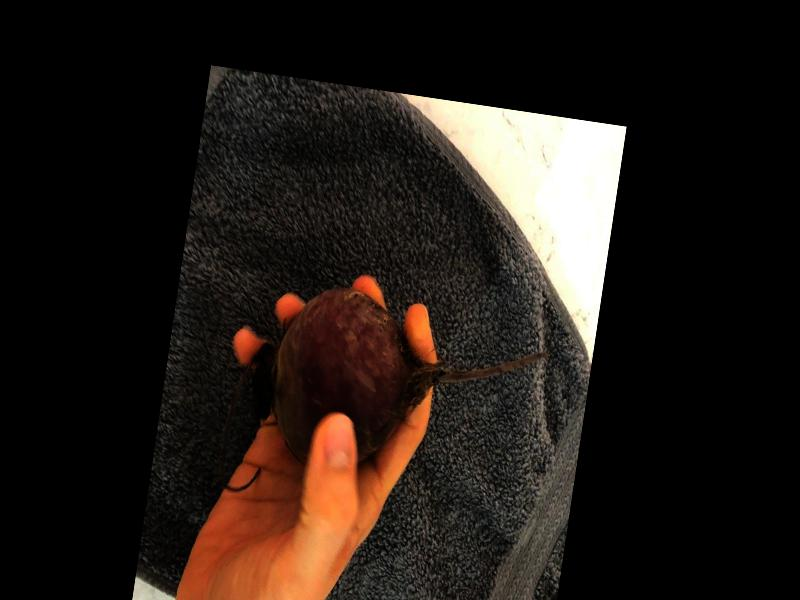Beet: (242, 276, 556, 498)
